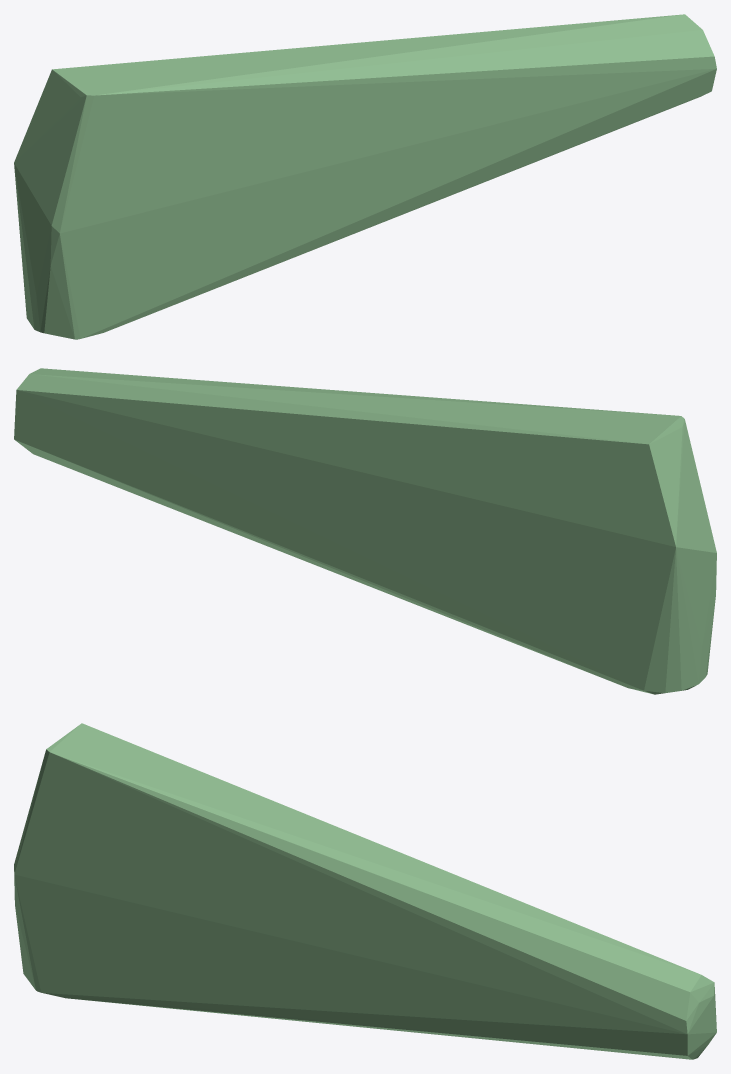
The model's file is handTool_hammer_sledge_a01.glb.
3 views of the same model, one above another, from view 1: azimuth 30°, elevation 25°; view 2: azimuth 150°, elevation 25°; view 3: azimuth 330°, elevation 25° (orthographic).
Visible parts, largest first — view 1: geometry_0; view 2: geometry_0; view 3: geometry_0.
Part boxes in pixels (<box>): geometry_0: <box>14,14,716,339</box>; geometry_0: <box>14,368,716,694</box>; geometry_0: <box>14,723,716,1059</box>.
Bounding box in the file's own units: 0.4792 × 0.1679 × 0.0547.
